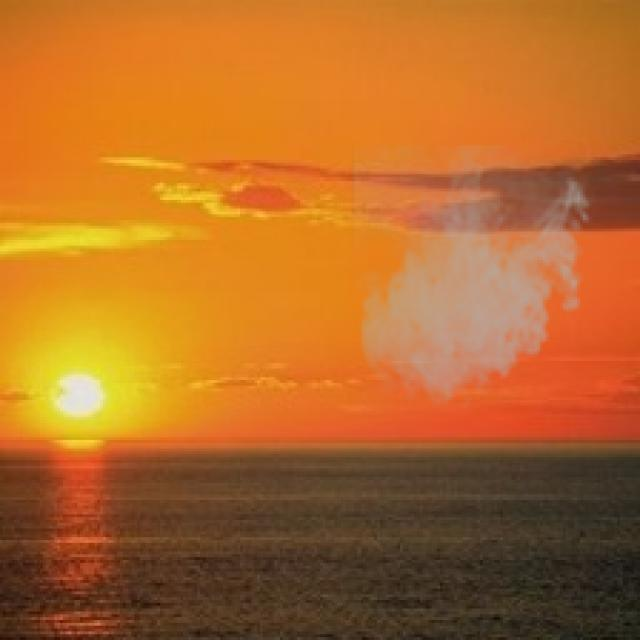Smoke: (352, 146, 597, 414)
